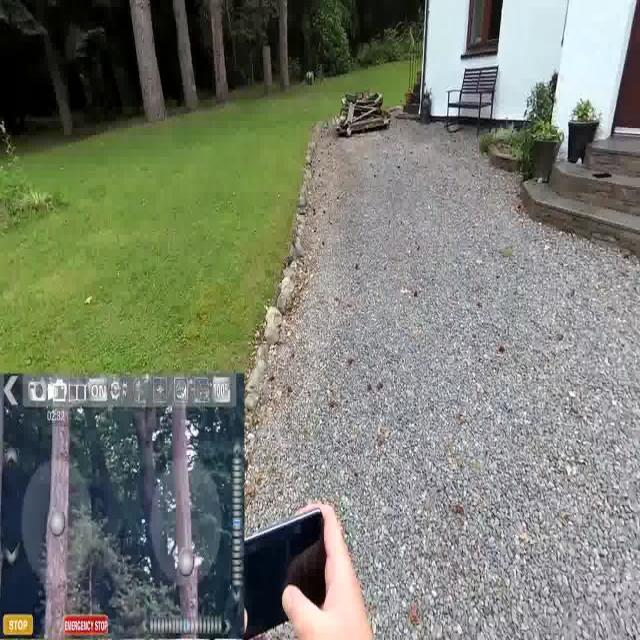drones: (290, 200, 316, 222)
